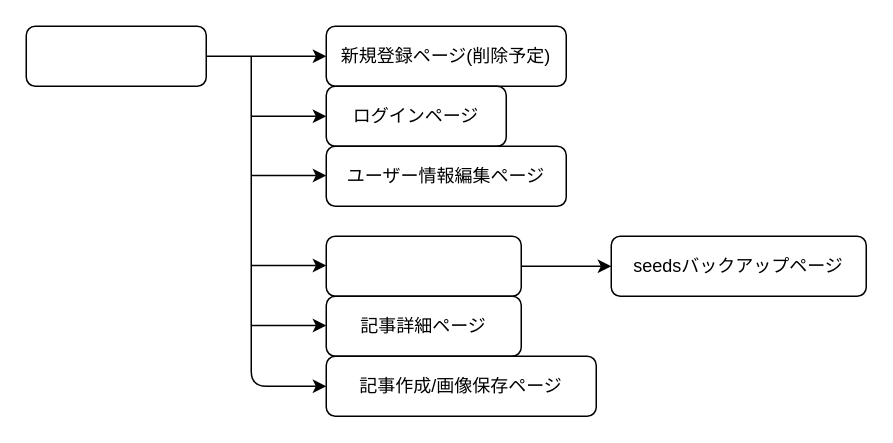
This 893x443 diagram has some shape labels left out. Each missing label, with the centre of its shape:
"トップページ" goes at point 115,55.
"記事一覧ページ" goes at point 423,265.
